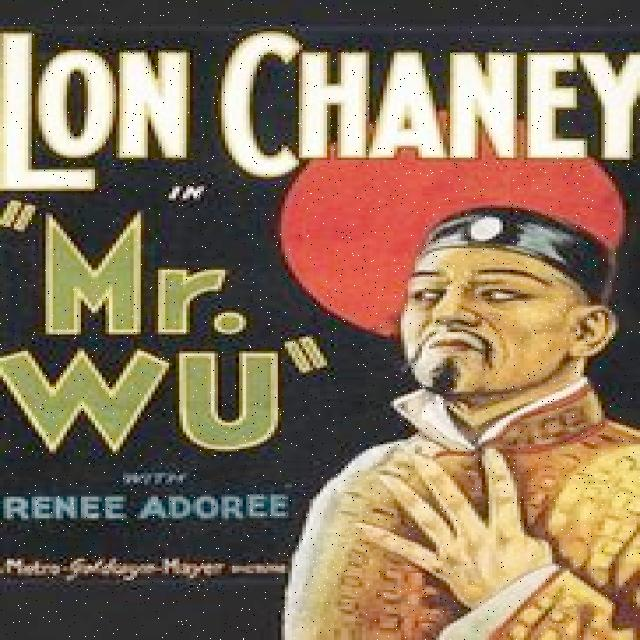movie-judul: (0, 194, 335, 463)
picture: (306, 203, 640, 640)
